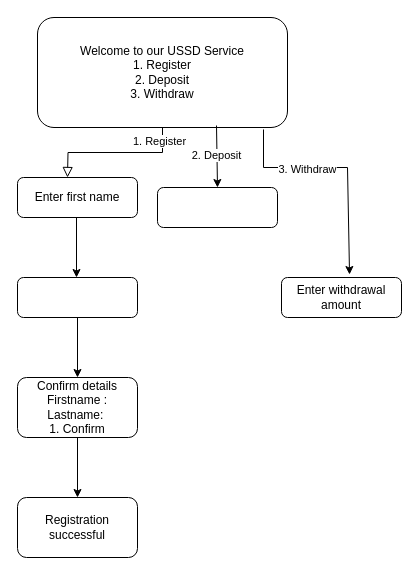
Image size: 419x575. Some labels were removed from this diagram. The shapes that lost their labels are listed below. From the top down, each one's box as (x1, y1, x2, y2) in pixels, then its label:
(156, 186, 278, 228): Enter deposit amount
(16, 276, 138, 318): Enter your last name
